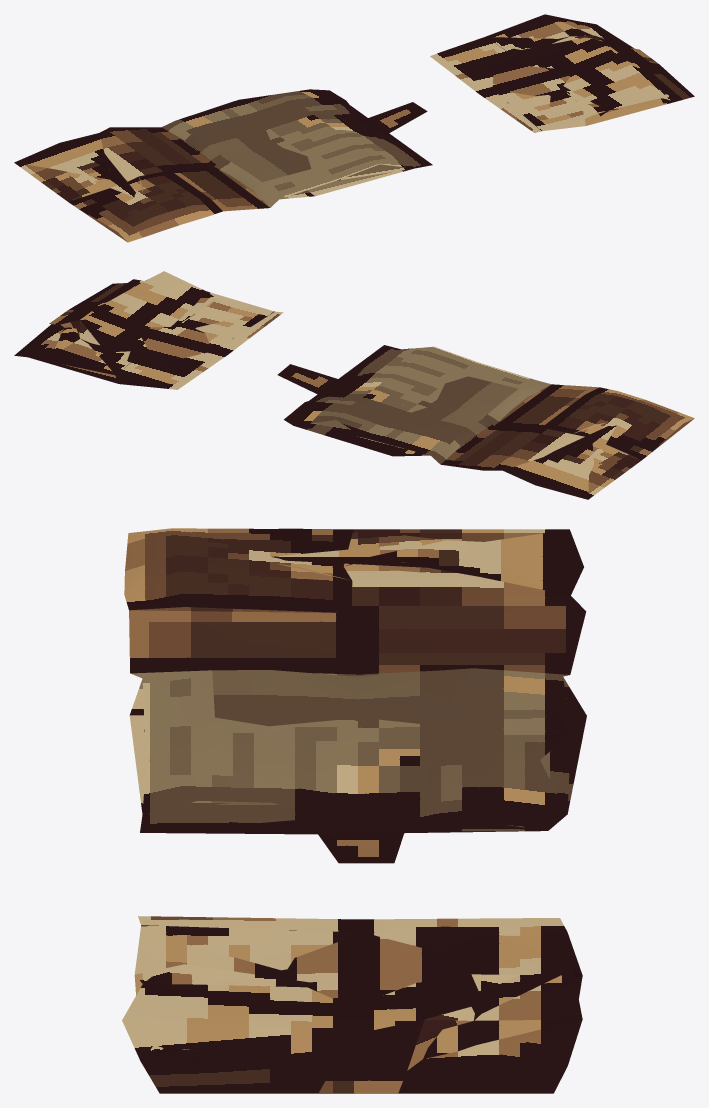
Rendered from binder_notebook.glb.
The picture shows the model from 3 angles, top to bottom: view 1: azimuth 30°, elevation 25°; view 2: azimuth 150°, elevation 25°; view 3: azimuth 270°, elevation 25°; orthographic projection. The views are drawn at different scales.
Visible parts, largest first — view 1: mesh; view 2: mesh; view 3: mesh.
Boxes of the visible parts, x1=… form: mesh: x1=14, y1=14, x2=694, y2=242; mesh: x1=14, y1=271, x2=694, y2=499; mesh: x1=122, y1=528, x2=586, y2=1093.
Bounding box in the file's own units: 0.6728 × 0.0253 × 0.2326.
1 material, 1 textured.
